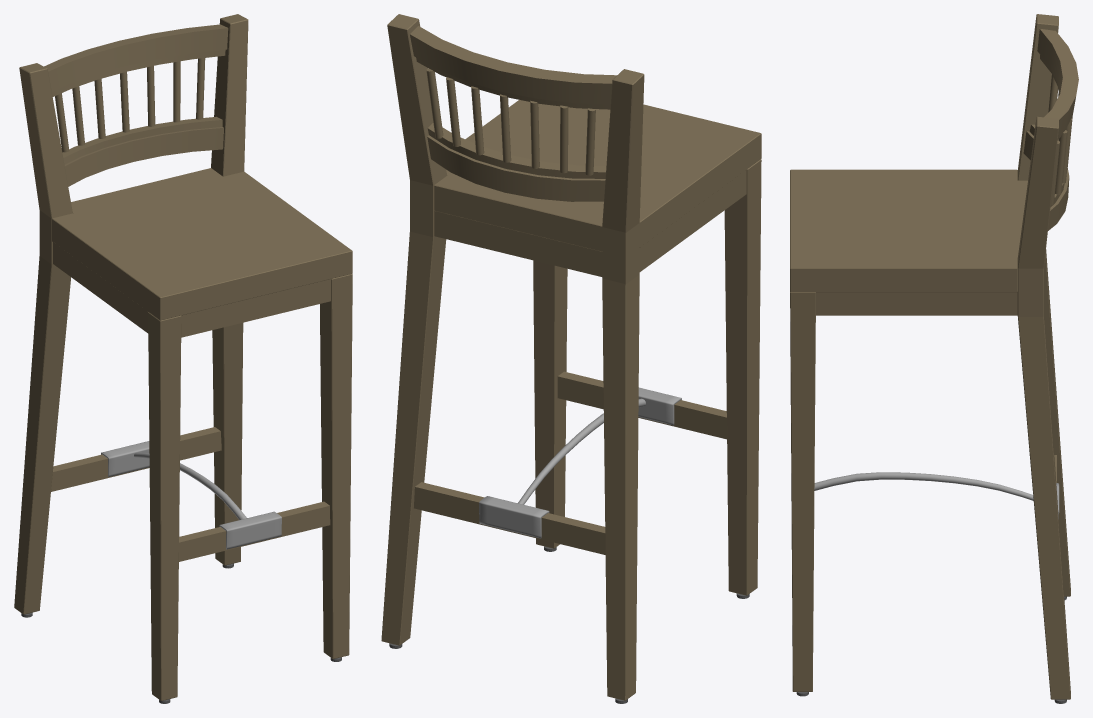
File: sweethome3d-scopia-bar-chair.glb
3 views of the same model, side by side, from view 1: azimuth 30°, elevation 25°; view 2: azimuth 150°, elevation 25°; view 3: azimuth 270°, elevation 25° (orthographic). The views are drawn at different scales.
Parts seen in each view (by area): view 1: wood_stool_Cube.001, stool_support_Cube.005, stool_link_Cube.002; view 2: wood_stool_Cube.001, stool_support_Cube.005, stool_link_Cube.002; view 3: wood_stool_Cube.001, stool_support_Cube.005, stool_link_Cube.002.
Part boxes in pixels (x1=…): wood_stool_Cube.001: x1=14, y1=14, x2=352, y2=703; stool_support_Cube.005: x1=44, y1=24, x2=228, y2=186; stool_link_Cube.002: x1=101, y1=441, x2=281, y2=549; wood_stool_Cube.001: x1=381, y1=14, x2=761, y2=703; stool_support_Cube.005: x1=409, y1=26, x2=616, y2=201; stool_link_Cube.002: x1=479, y1=387, x2=681, y2=538; wood_stool_Cube.001: x1=790, y1=14, x2=1070, y2=703; stool_support_Cube.005: x1=1023, y1=29, x2=1078, y2=230; stool_link_Cube.002: x1=814, y1=472, x2=1059, y2=518.
Size of the model in its own units: 44.73 by 108 by 48.64.
